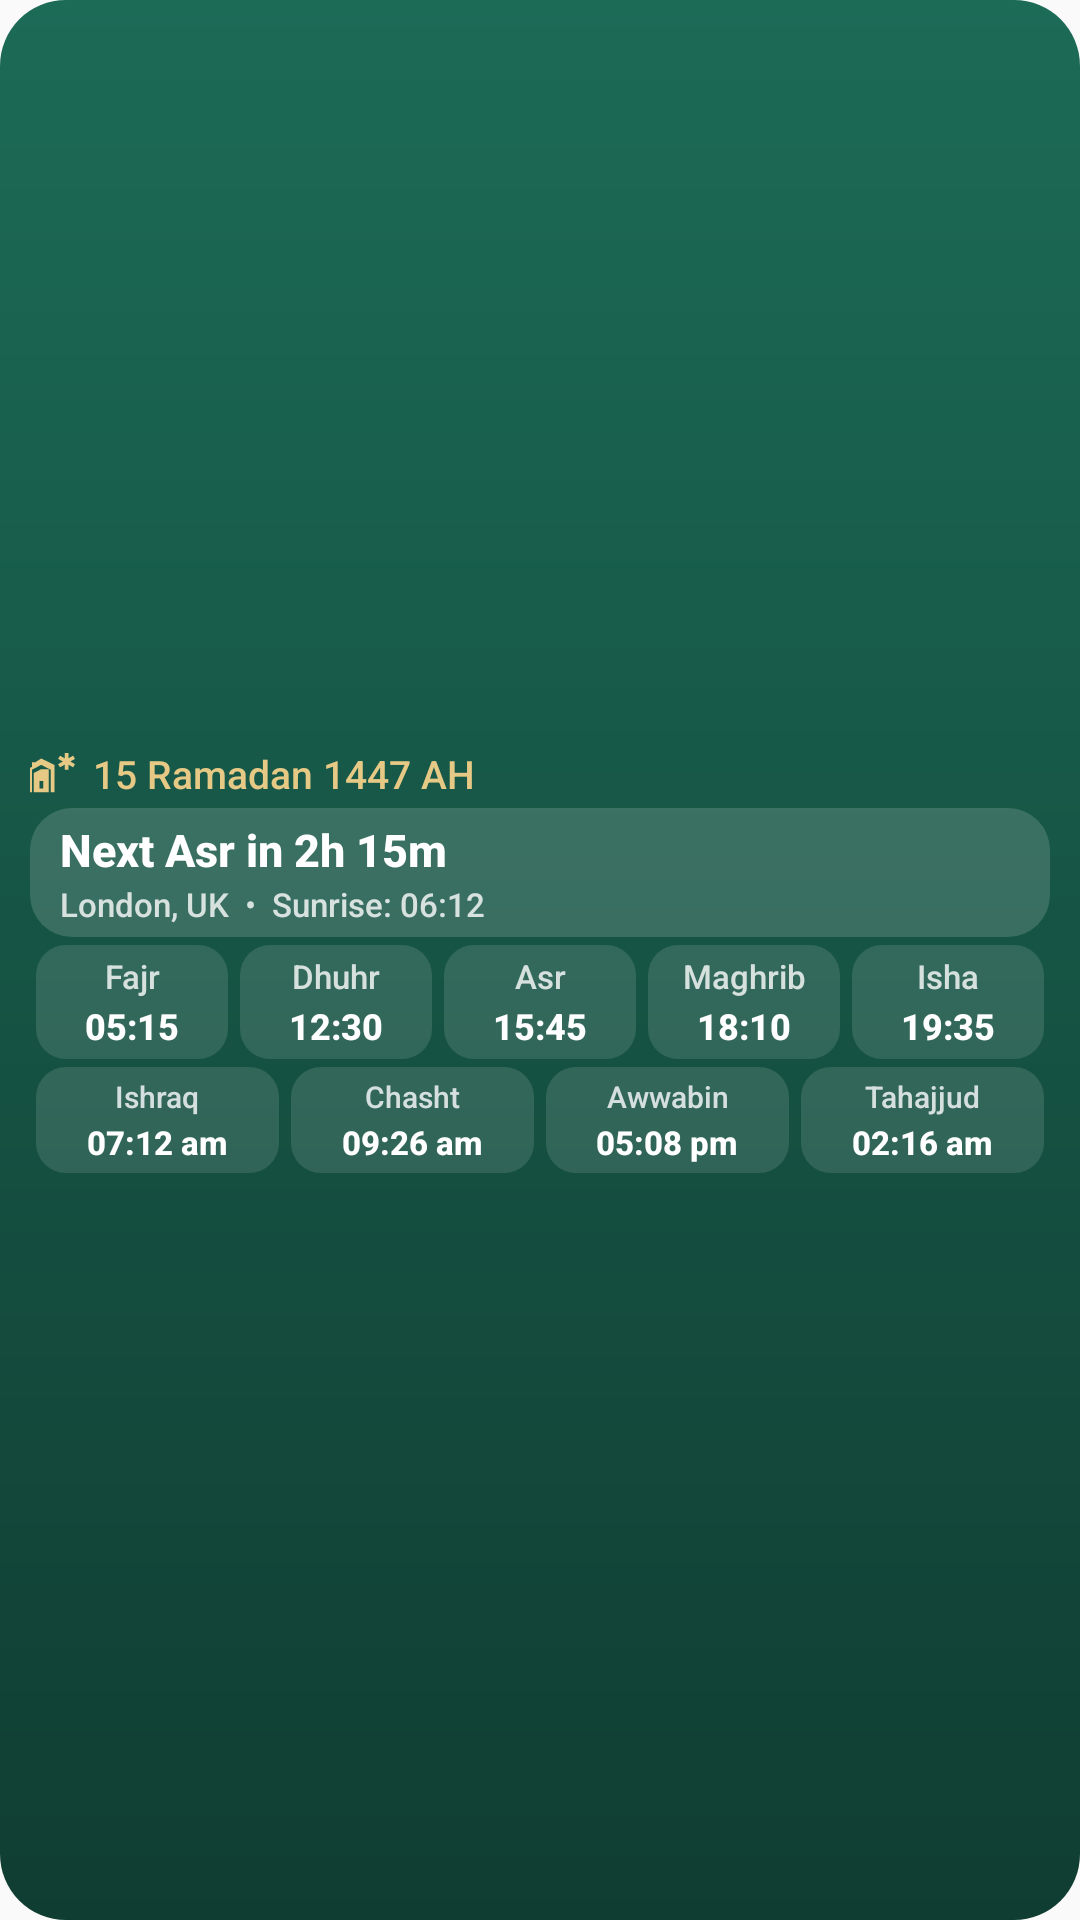

Locate icon controls on the screen. Image size 1080*1920, boxes as {"x1": x1, "y1": y1, "x2": x2, "y2": y2}.
mosque: {"x1": 30, "y1": 753, "x2": 75, "y2": 793}
